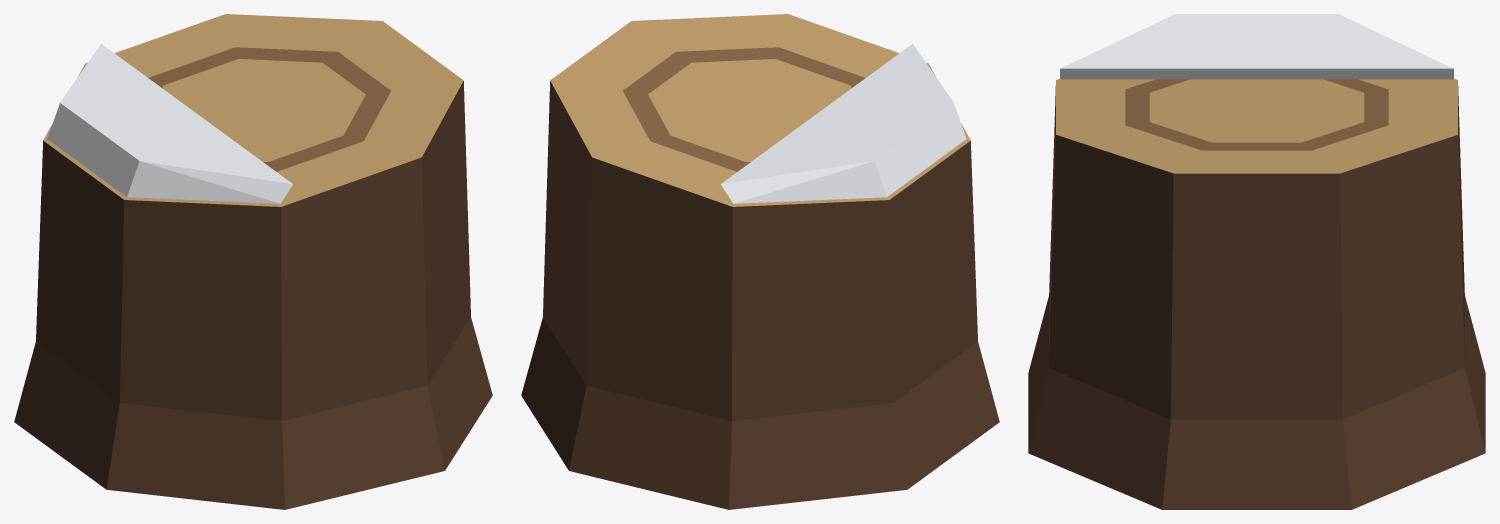
Rendered from stump.glb.
3 views of the same model, side by side, from view 1: azimuth 30°, elevation 25°; view 2: azimuth 150°, elevation 25°; view 3: azimuth 270°, elevation 25° (orthographic). The views are drawn at different scales.
Visible parts, largest first — view 1: Stump; view 2: Stump; view 3: Stump.
Part boxes in pixels (x1,y1,x2,y2): Stump: [14, 14, 492, 509]; Stump: [521, 14, 999, 509]; Stump: [1028, 14, 1485, 509].
Bounding box in the file's own units: 0.6098 × 0.4777 × 0.6098.
